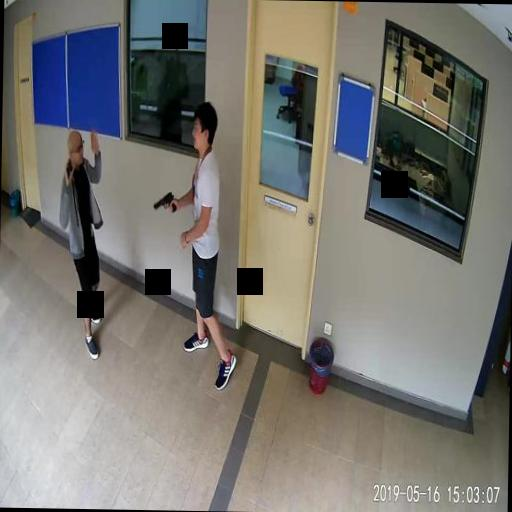Handgun: (152, 190, 176, 212)
